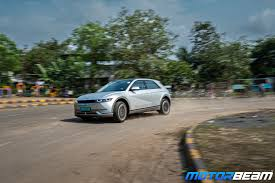Honda Ioniq: (71, 73, 181, 130)
